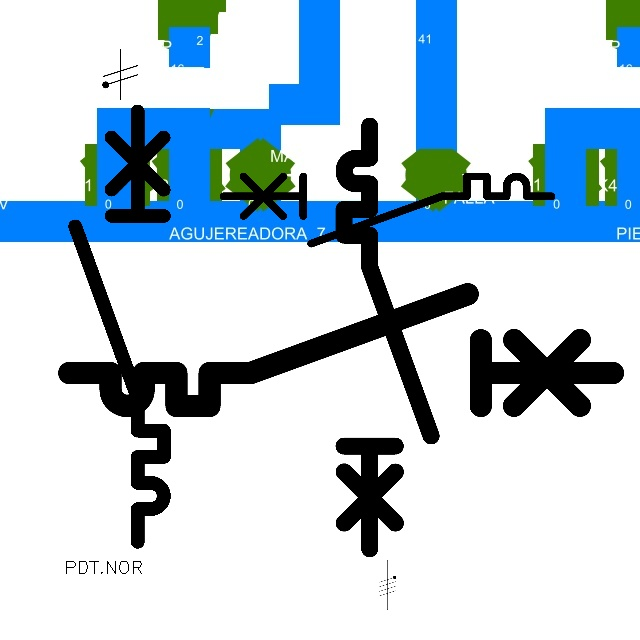interruptor_termomagnetico: (55, 280, 627, 420), (64, 100, 175, 553), (333, 115, 441, 559), (215, 168, 560, 252)
